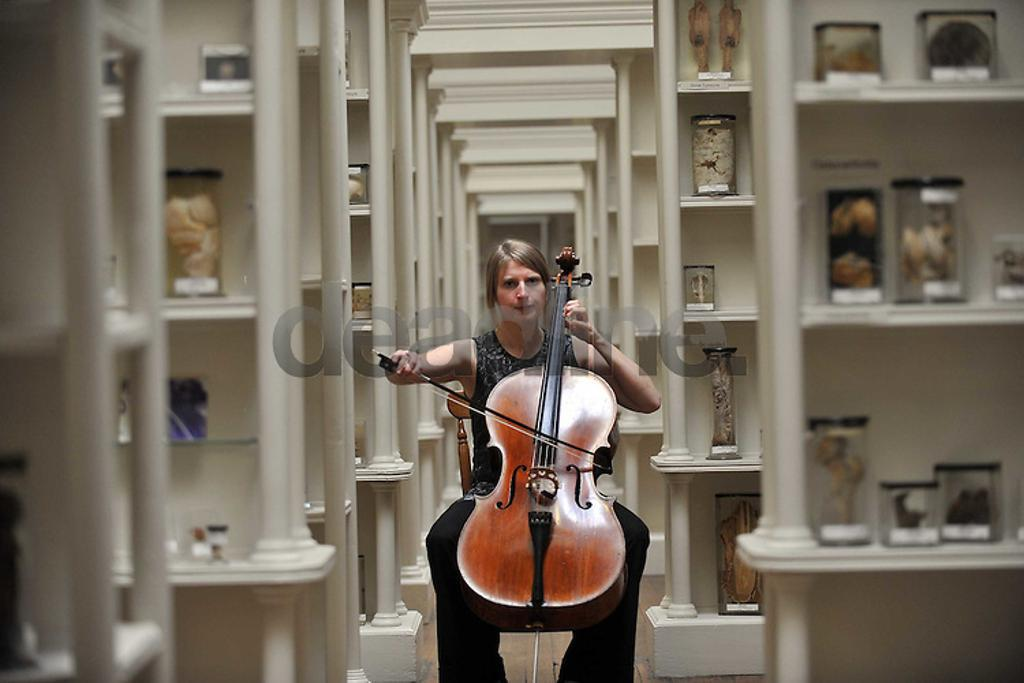face: (496, 258, 547, 325)
